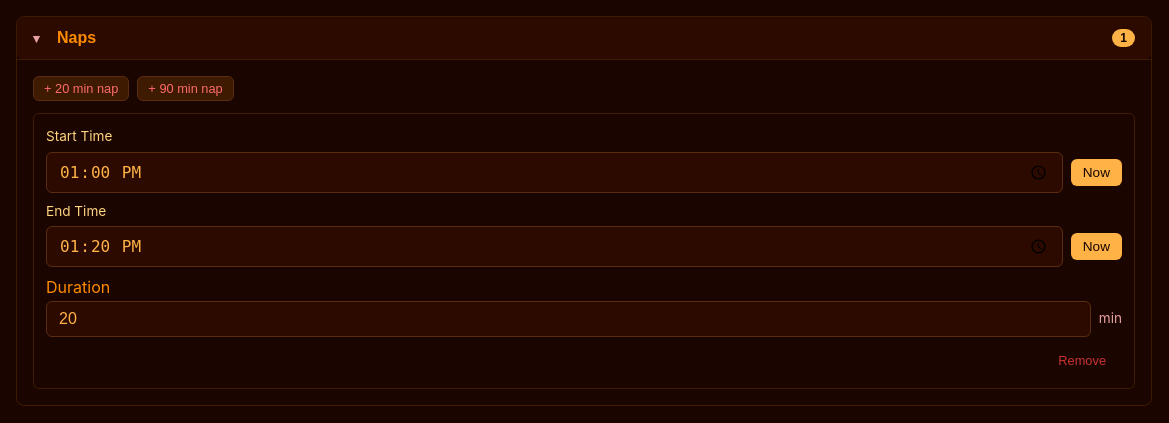
NapSection › changing duration moves the end time
This screenshot has width=1169, height=423.
Replace the text in the number field with "45" at [568, 319], box [46,301,1091,337]
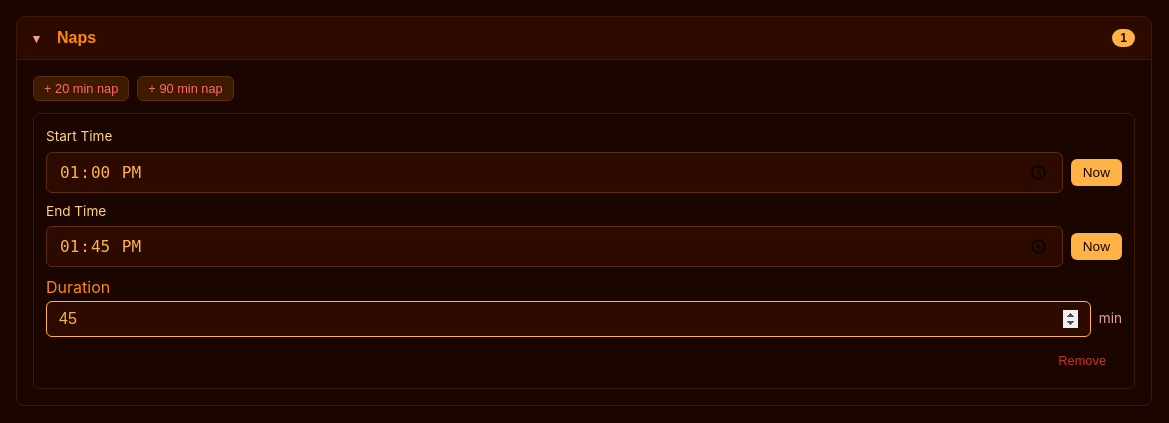
Check: the time field below "End Time" holds "13:45", box [46,226,1063,267]
